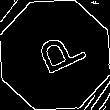P_SW: (24, 28, 86, 82)
